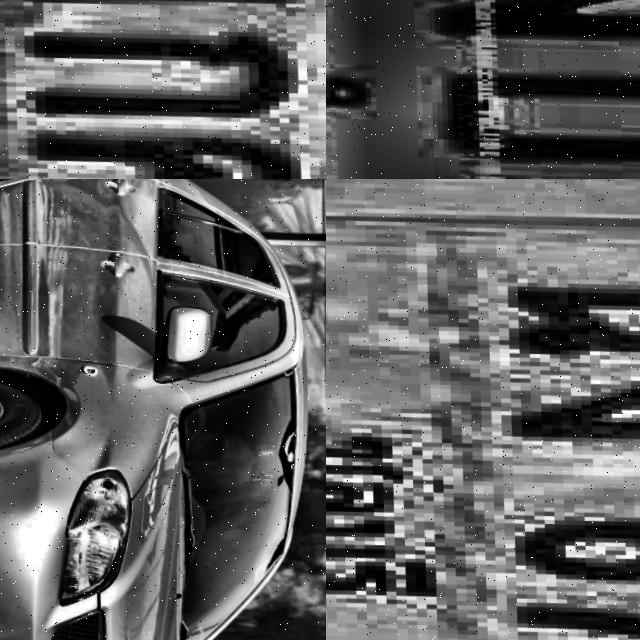license-plate: (326, 179, 640, 640), (0, 0, 326, 179), (326, 0, 640, 179)
